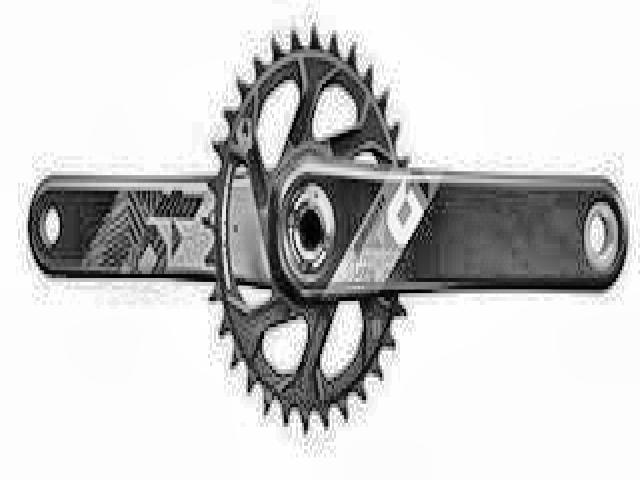cranks_set: (205, 22, 628, 438)
